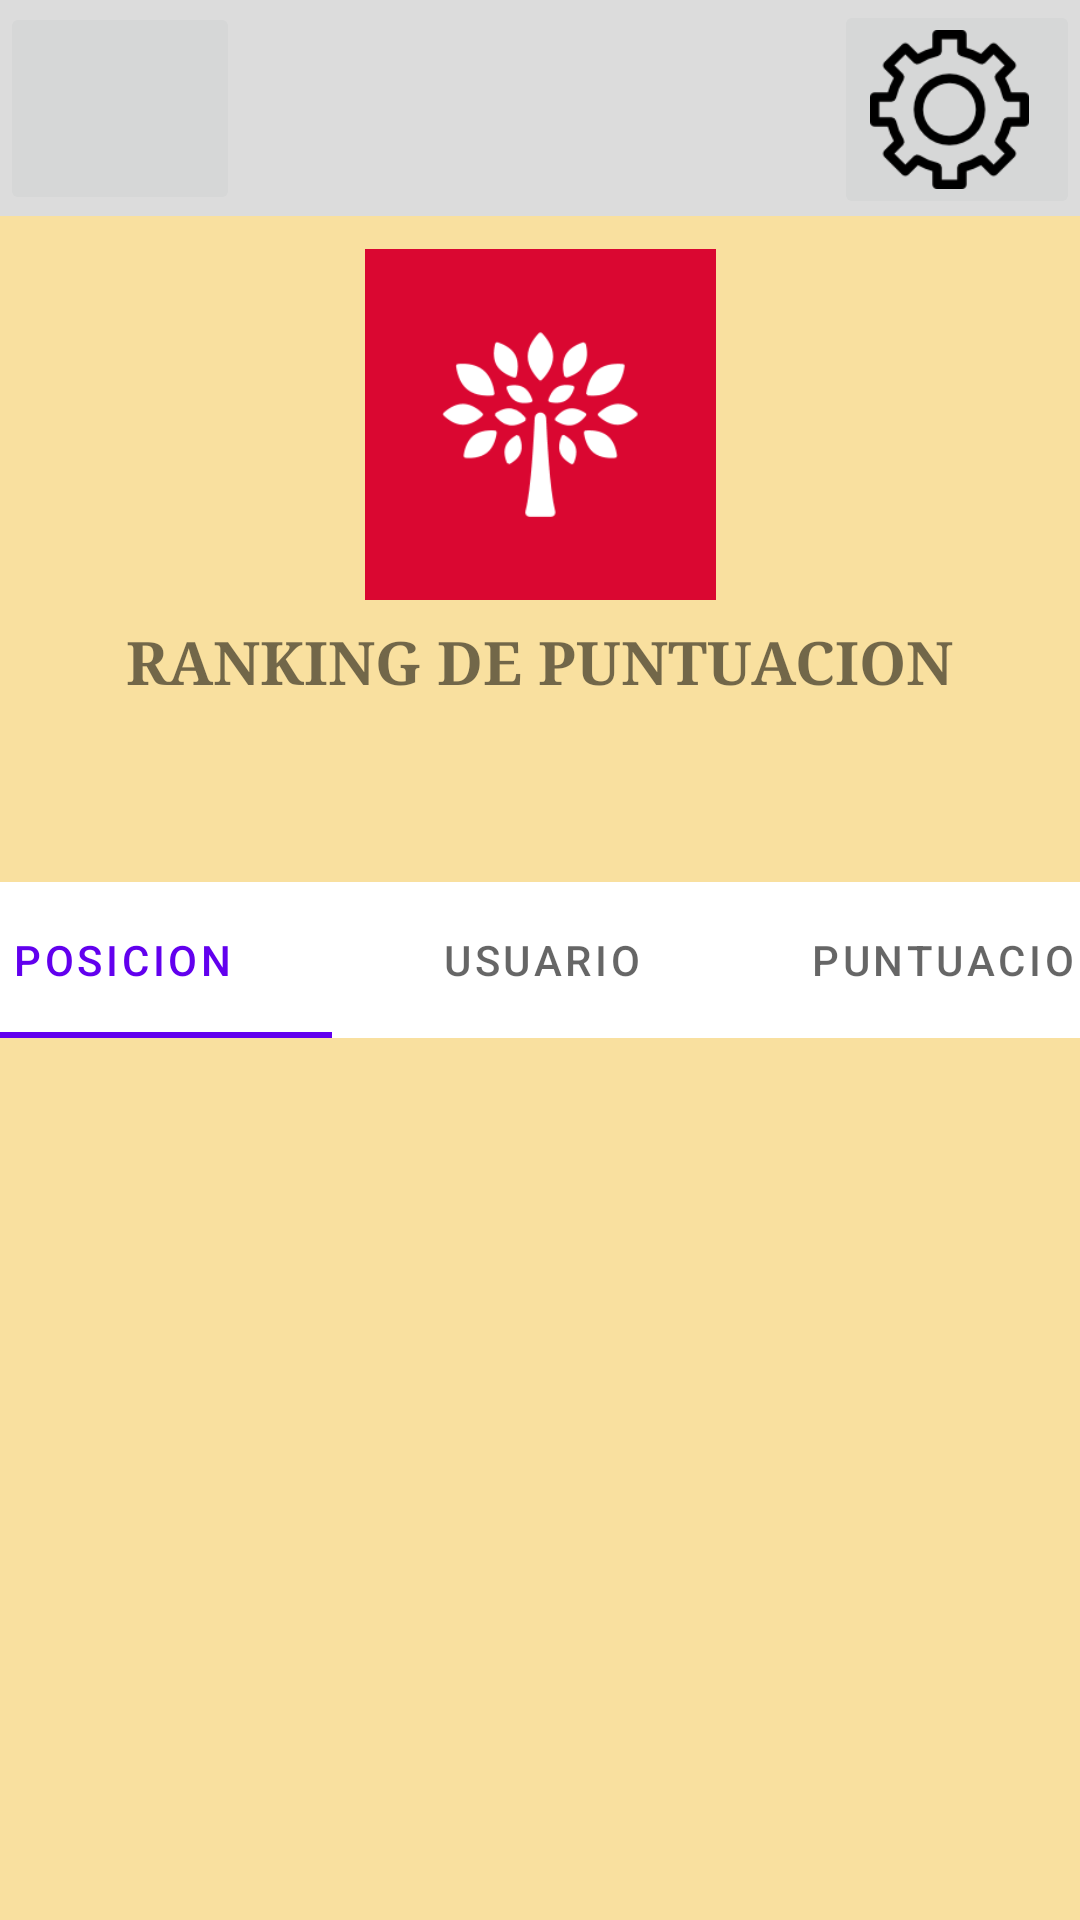

Named icons in this screenshot (1080 × 1920) and their centers, point (x, y):
engranaje: point (957, 109)
